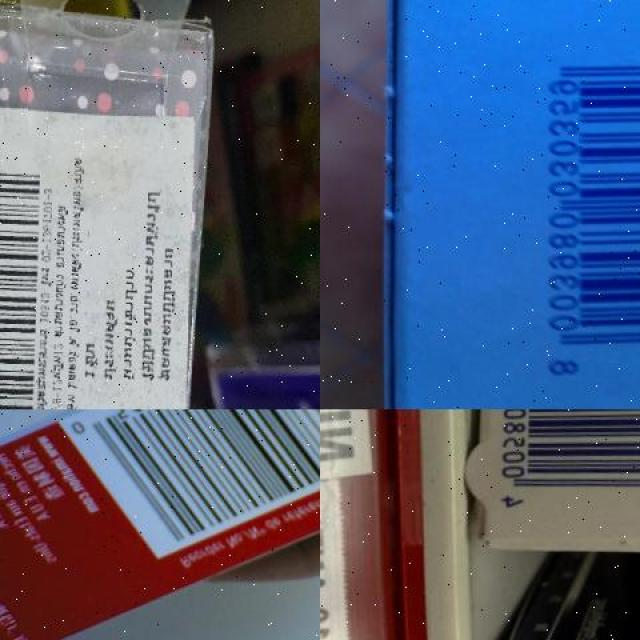Barcode: (55, 409, 320, 560), (528, 41, 640, 388), (494, 409, 640, 513), (0, 152, 48, 409)
